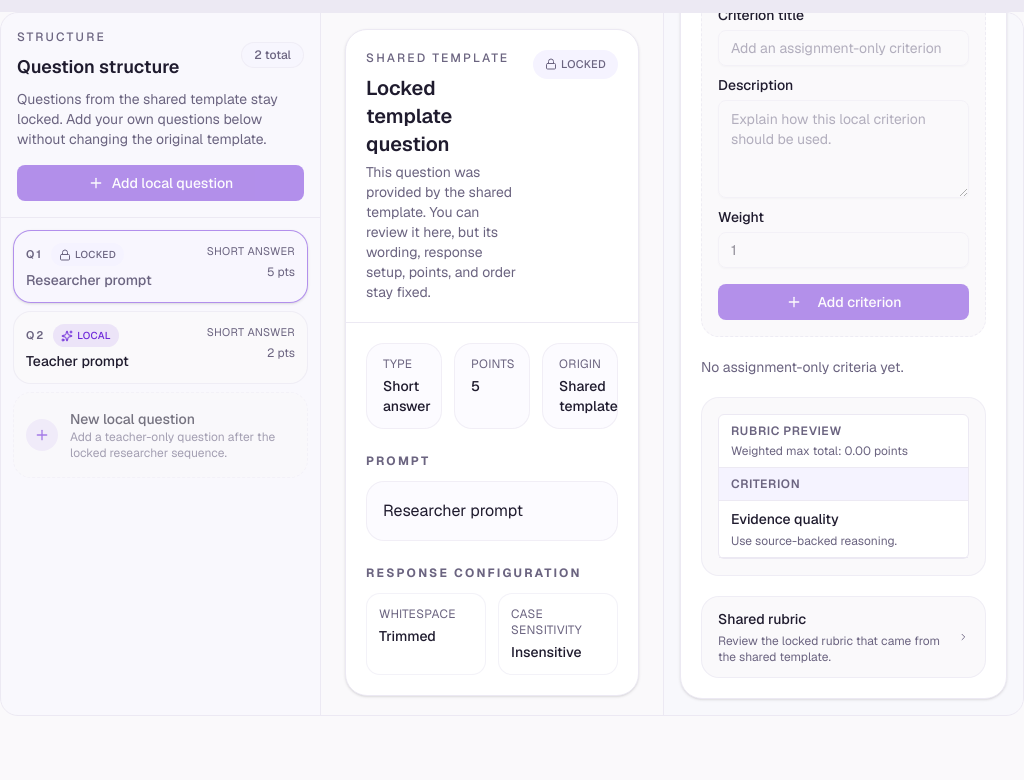
Test: AssignmentComposerPanel › keeps local authoring entry points disabled when compose access is off
(page scrolled)
Click the button "Shared rubric" at [844, 637], box top-left (702, 597), bottom-right (985, 677)
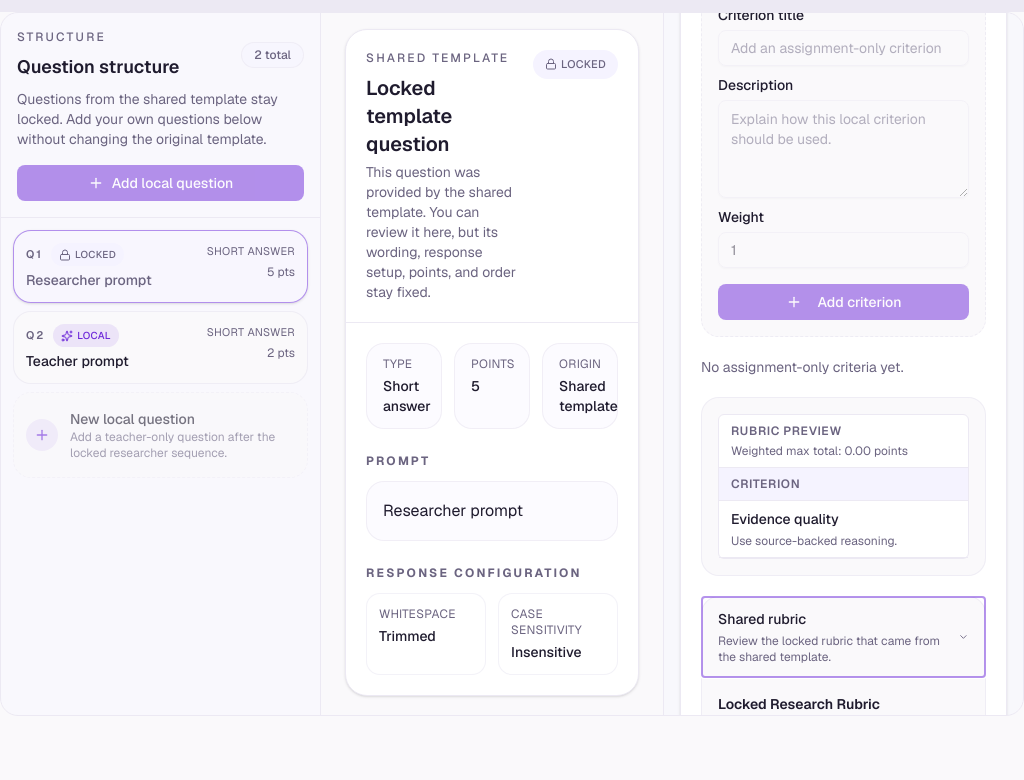
Expected: the button "Add local question" is disabled, top-left (17, 165), bottom-right (304, 201)
Result: the text "Locked Research Rubric" is shown at top-left (718, 695), bottom-right (880, 713)
Click the button "Q2 Local Teacher prompt Short answer 2 pts" at [86, 336], box top-left (13, 311), bottom-right (308, 384)
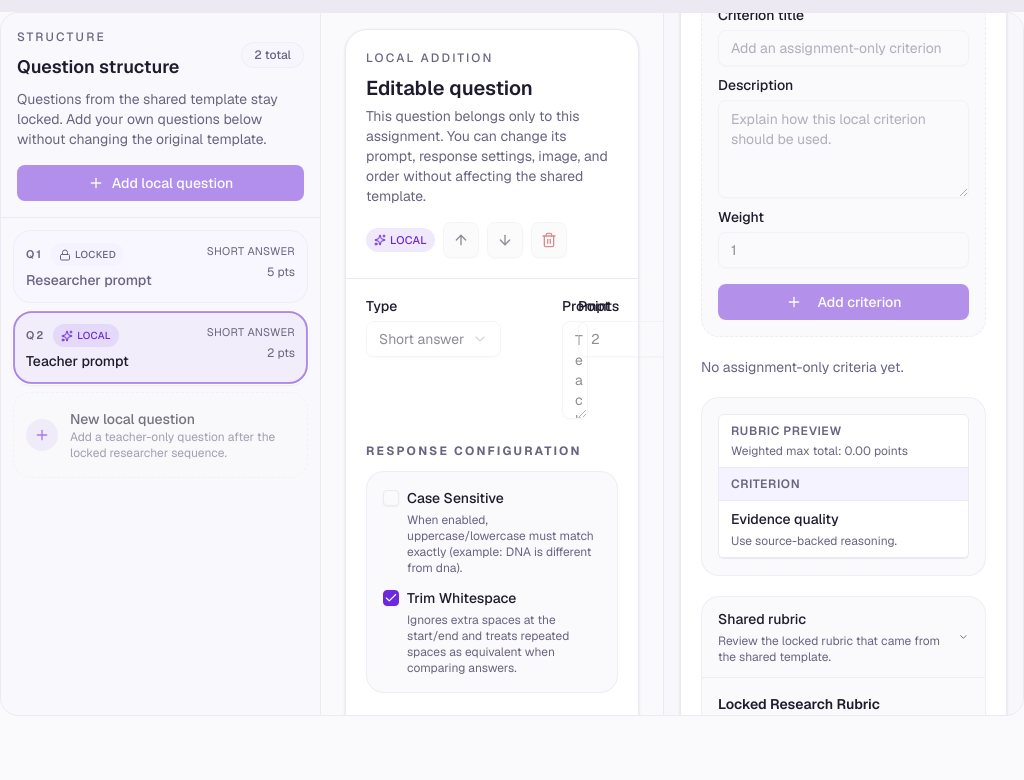
Result: the text box named "Prompt" is disabled at top-left (562, 321), bottom-right (588, 419)
